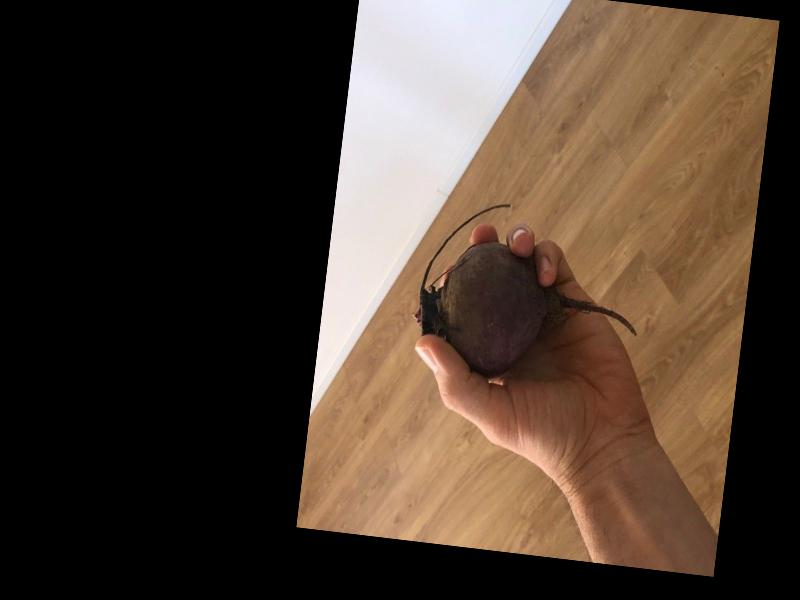Beet: (406, 192, 648, 393)
